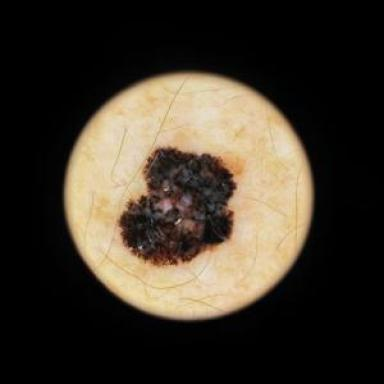Melanoma: (117, 145, 238, 267)
